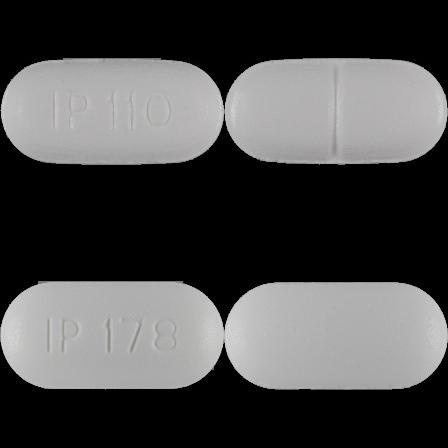53746-110: (0, 0, 224, 224)
